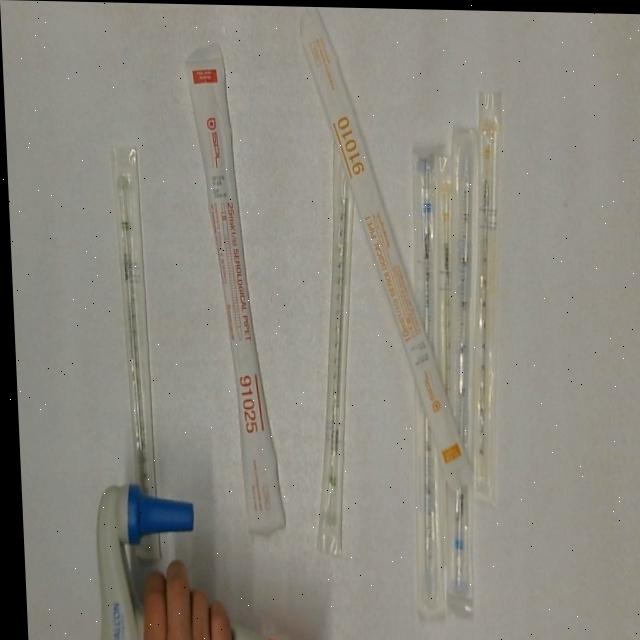Pipette Controller: (83, 481, 285, 640)
Serelogical Pipet 1 mL - Sealed: (469, 80, 512, 491), (422, 152, 468, 416)
Serelogical Pipet 10 mL - Sealed: (296, 5, 472, 492)
Serelogical Pipet 2 mL - Sealed: (293, 131, 374, 559), (109, 136, 162, 566)
Serelogical Pipet 25 mL - Sealed: (183, 38, 298, 539)
Serelogical Pipet 5 mL - Sealed: (425, 123, 494, 600), (393, 138, 450, 621)
